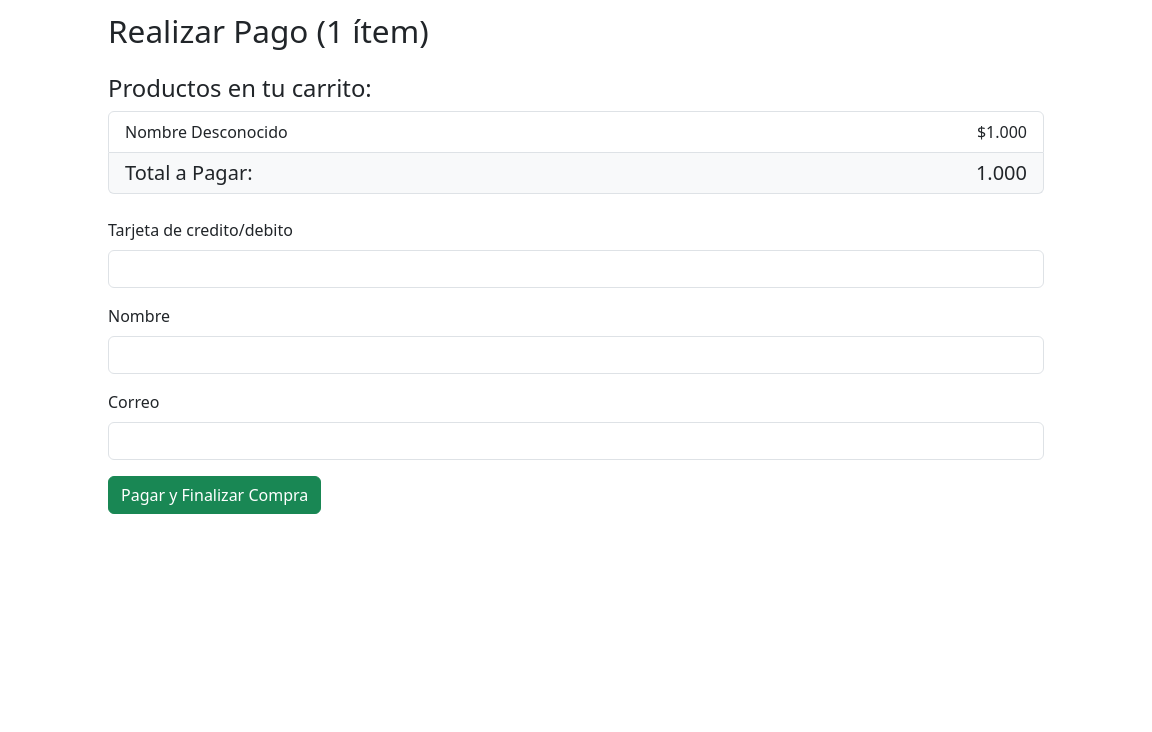
Test: Checkout Component › muestra errores cuando el formulario se envía vacío
// Simula el click en el botón de pagar sin rellenar los campos
Click the button "Pagar y Finalizar Compra": [215, 494] box [108,476,321,514]
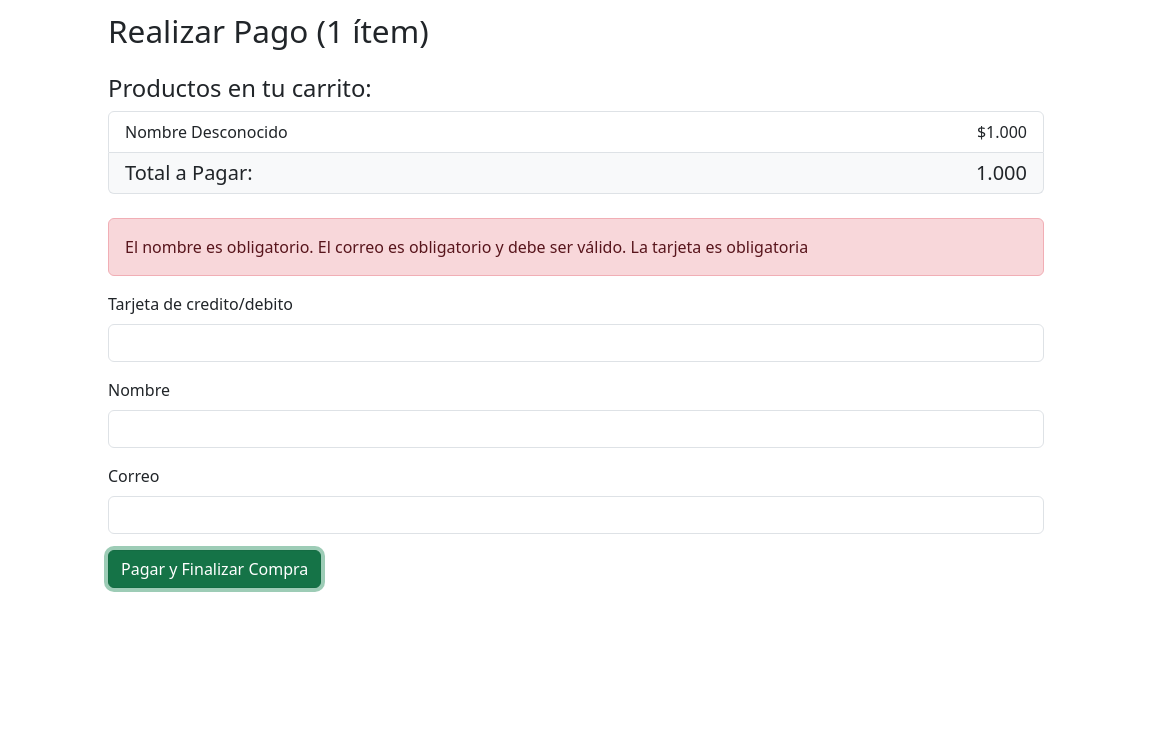
Expected: the message shows "El nombre es obligatorio", [125,236,808,258]
Expected: the message shows "El correo es obligatorio", [125,236,808,258]
Expected: the message shows "La tarjeta es obligatoria", [125,236,808,258]
